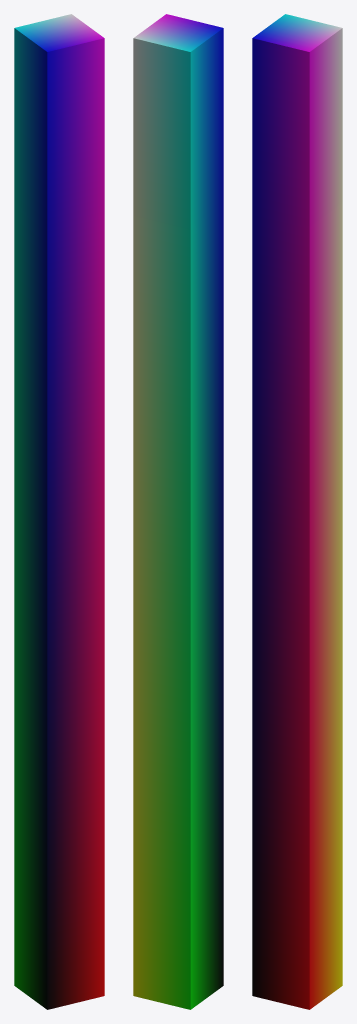
Rendered from barra.fbx.
The picture shows the model from 3 angles, left to right: view 1: azimuth 30°, elevation 25°; view 2: azimuth 150°, elevation 25°; view 3: azimuth 330°, elevation 25°; orthographic projection.
Visible parts, largest first — view 1: barra; view 2: barra; view 3: barra.
Part boxes in pixels (x1,y1,x2,y2): barra: (14, 14, 104, 1009); barra: (133, 14, 223, 1009); barra: (252, 14, 342, 1009).
Size of the model in its own units: 1 by 16 by 1.
